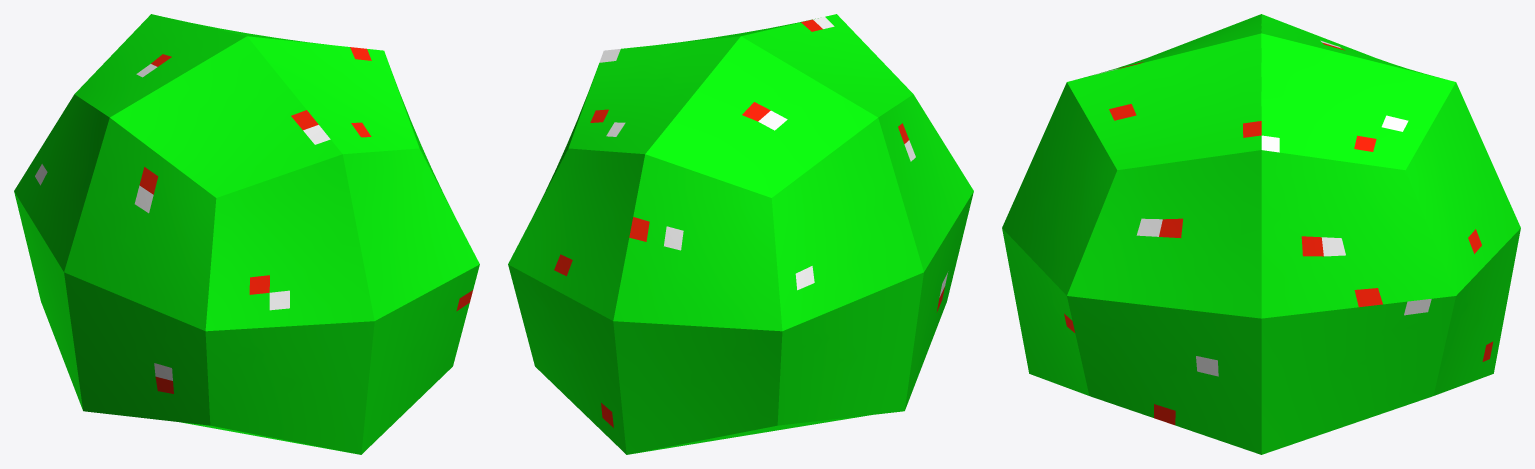
Rendered from bush.fbx.
3 views of the same model, side by side, from view 1: azimuth 30°, elevation 25°; view 2: azimuth 150°, elevation 25°; view 3: azimuth 270°, elevation 25° (orthographic).
Parts seen in each view (by area): view 1: bush_LOD0; view 2: bush_LOD0; view 3: bush_LOD0.
Part boxes in pixels (x1,y1,x2,y2): bush_LOD0: [14, 14, 479, 454]; bush_LOD0: [508, 14, 973, 454]; bush_LOD0: [1002, 14, 1520, 454].
Size of what is drawn, in the model's own units: 1.48 by 1.48 by 1.79.
